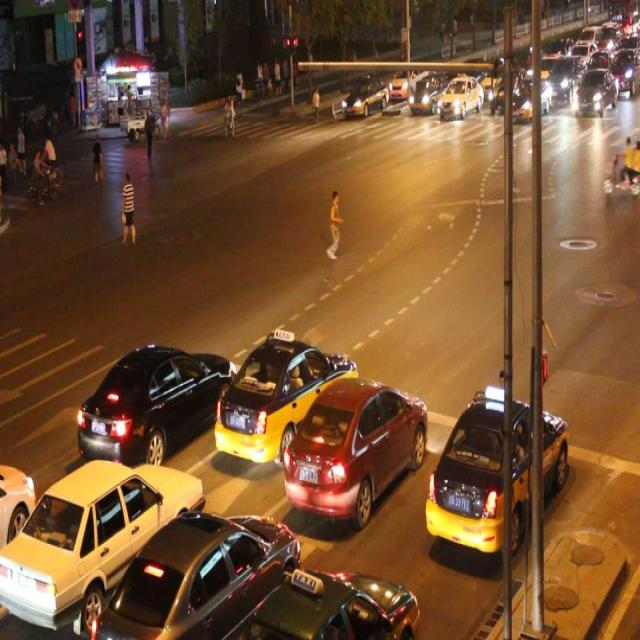car: (1, 456, 202, 627), (89, 506, 303, 640), (421, 392, 570, 556), (282, 372, 429, 520), (76, 340, 235, 464), (212, 335, 358, 466), (240, 564, 420, 640), (1, 458, 38, 564)
